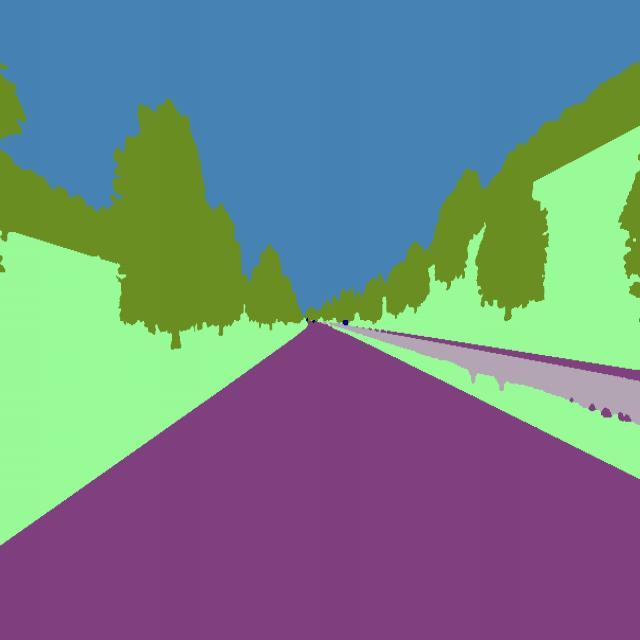safe: (339, 316, 352, 330)
